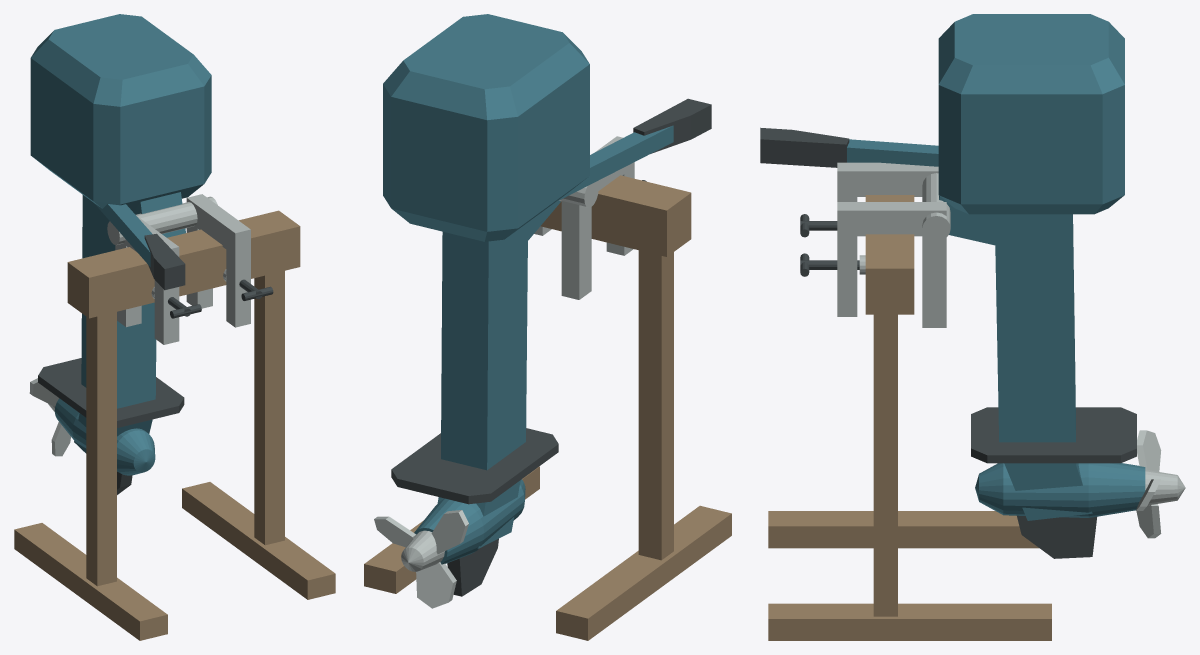
3 views of the same model, side by side, from view 1: azimuth 30°, elevation 25°; view 2: azimuth 150°, elevation 25°; view 3: azimuth 270°, elevation 25° (orthographic). The views are drawn at different scales.
Parts seen in each view (by area): view 1: WholeRoundedPowerheadCowling, WholeTrestleMountingBeam, WholeTrestlePost0, WholeTrestlePost1, WholeContinuousTaperedLeg, WholeTrestleFoot1, WholeTrestleFoot0, WholeInvertedUMountingHook1, WholeBroadIntermediatePlate, WholePointedLowerGearHousing, WholeInvertedUMountingHook0, WholeTransverseTiltAxle (+3 smaller); view 2: WholeRoundedPowerheadCowling, WholeContinuousTaperedLeg, WholeTrestlePost0, WholeTrestleFoot0, WholeTrestleMountingBeam, WholeBroadIntermediatePlate, WholeInvertedUMountingHook0, WholePointedLowerGearHousing, WholeOffsetTillerArm, WholeTrestleFoot1, WholeTillerEndGrip, WholeBluntLowerSkeg (+5 smaller); view 3: WholeRoundedPowerheadCowling, WholeContinuousTaperedLeg, WholeTrestleFoot1, WholeTrestleFoot0, WholeTrestlePost1, WholeInvertedUMountingHook1, WholeBroadIntermediatePlate, WholePointedLowerGearHousing, WholeTrestleMountingBeam, WholeInvertedUMountingHook0, WholeTillerEndGrip, WholeBluntLowerSkeg (+5 smaller).
Part boxes in pixels (box(x1,y1,x2,y2)): WholeRoundedPowerheadCowling: box(30, 14, 211, 210); WholeTrestleMountingBeam: box(67, 210, 300, 318); WholeTrestlePost0: box(86, 312, 116, 586); WholeTrestlePost1: box(254, 271, 284, 545); WholeContinuousTaperedLeg: box(74, 192, 185, 453); WholeTrestleFoot1: box(182, 482, 335, 599); WholeTrestleFoot0: box(14, 523, 167, 640); WholeInvertedUMountingHook1: box(186, 194, 250, 327); WholeBroadIntermediatePlate: box(38, 358, 184, 427); WholePointedLowerGearHousing: box(54, 398, 155, 475); WholeInvertedUMountingHook0: box(115, 215, 179, 344); WholeTransverseTiltAxle: box(107, 196, 217, 245); WholeRoundedPowerheadCowling: box(383, 14, 589, 241); WholeContinuousTaperedLeg: box(437, 201, 560, 548); WholeTrestlePost0: box(638, 250, 673, 560); WholeTrestleFoot0: box(556, 505, 731, 640); WholeTrestleMountingBeam: box(541, 175, 691, 256); WholeBroadIntermediatePlate: box(391, 428, 558, 504); WholeInvertedUMountingHook0: box(561, 136, 634, 299); WholePointedLowerGearHousing: box(414, 479, 525, 564); WholeOffsetTillerArm: box(555, 125, 673, 202); WholeTrestleFoot1: box(364, 466, 539, 593); WholeTillerEndGrip: box(633, 98, 711, 153); WholeBluntLowerSkeg: box(447, 538, 498, 596); WholeRoundedPowerheadCowling: box(938, 14, 1124, 214); WholeContinuousTaperedLeg: box(939, 196, 1092, 520); WholeTrestleFoot1: box(768, 603, 1051, 640); WholeTrestleFoot0: box(768, 511, 1038, 548); WholeTrestlePost1: box(873, 314, 897, 616); WholeInvertedUMountingHook1: box(837, 202, 946, 327); WholeBroadIntermediatePlate: box(971, 407, 1136, 463); WholePointedLowerGearHousing: box(975, 463, 1145, 517); WholeTrestleMountingBeam: box(865, 195, 914, 314); WholeInvertedUMountingHook0: box(837, 162, 938, 201); WholeTillerEndGrip: box(760, 127, 849, 167); WholeBluntLowerSkeg: box(1017, 515, 1096, 558).
Size of the model in its own units: 0.68 by 1.49 by 1.05.
